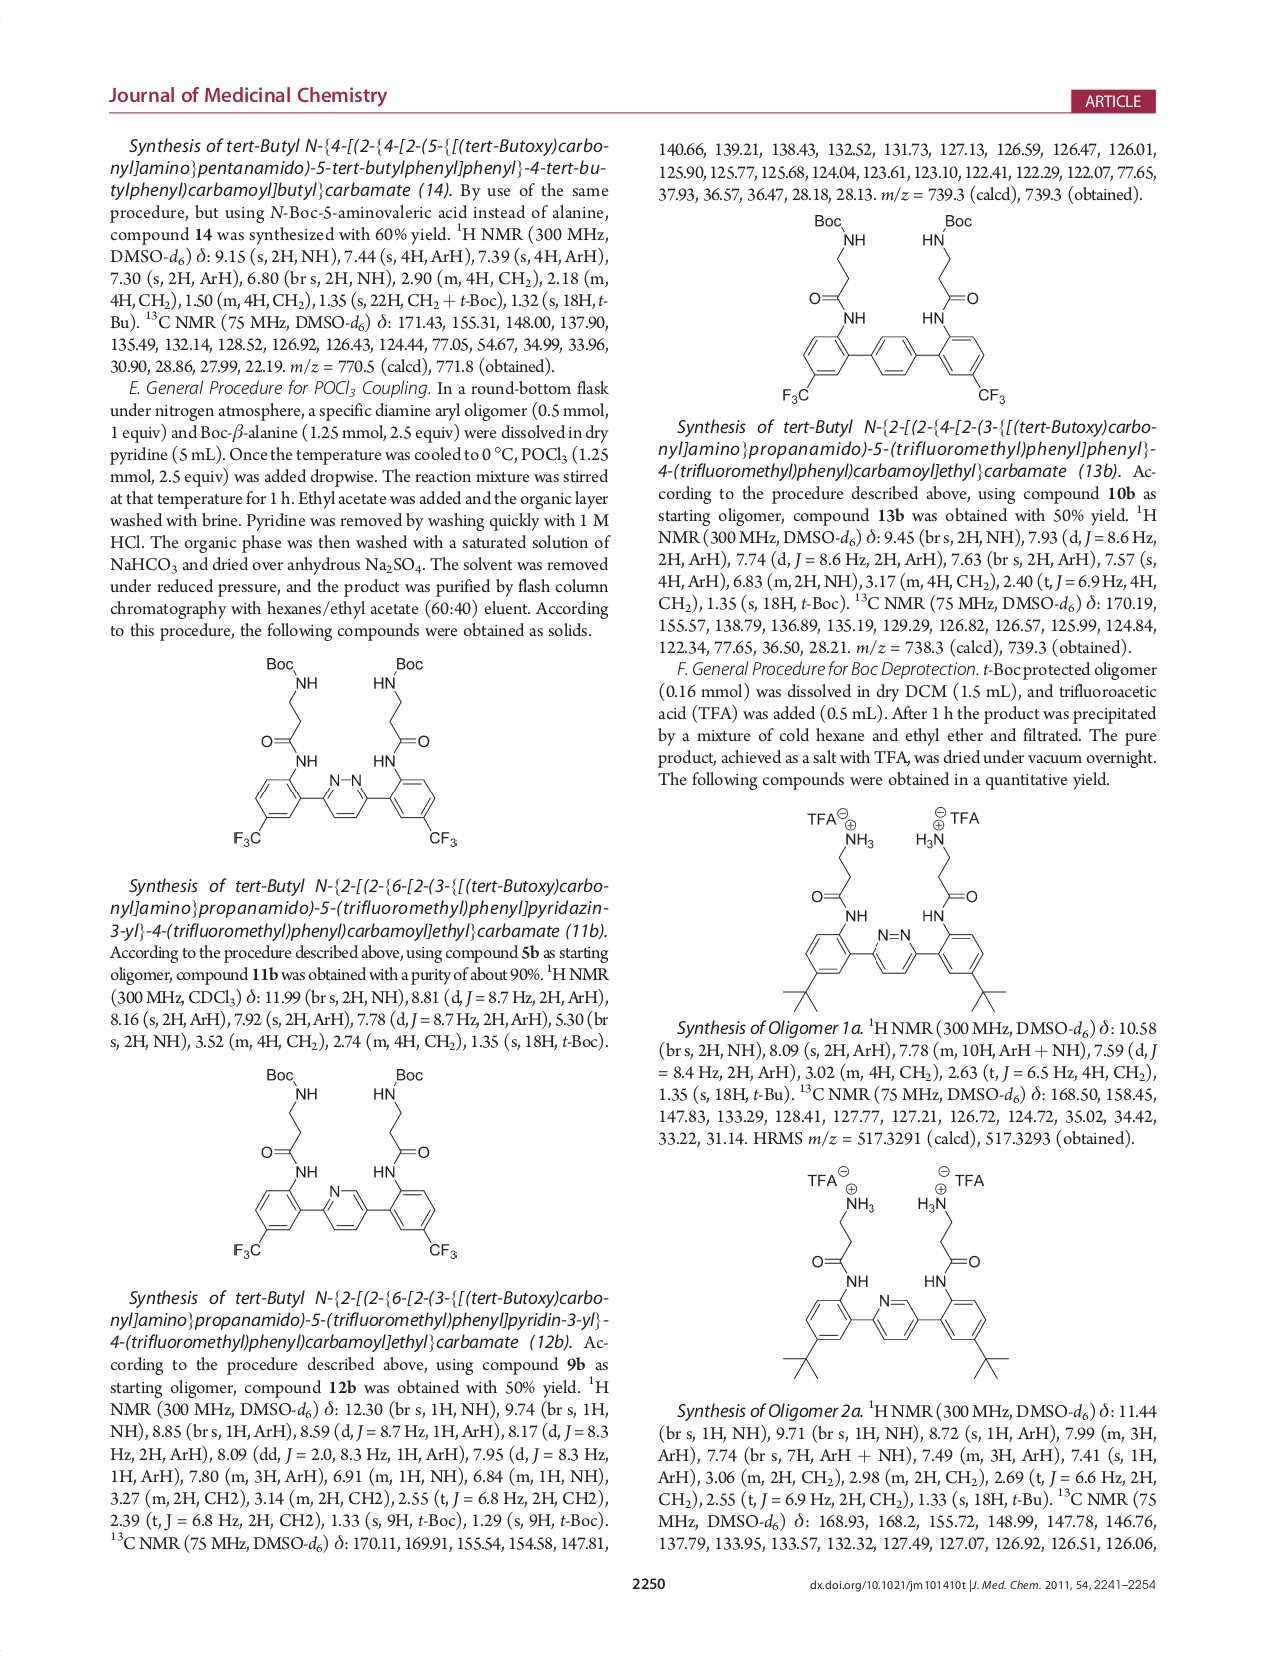exist_molecular: (781, 1165, 1016, 1382), (781, 806, 1009, 1012), (773, 210, 1009, 408), (231, 1065, 460, 1262), (231, 656, 459, 850)
